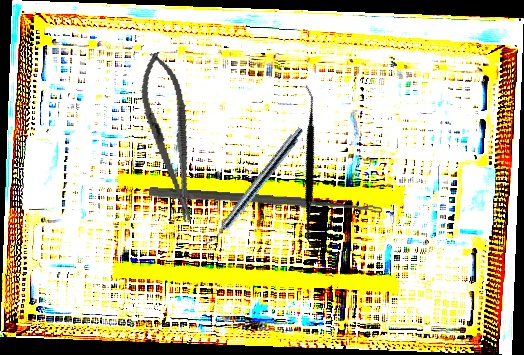Handpiece: (203, 123, 306, 251)
Needle Holder: (132, 48, 208, 227)
Spatula Surgical: (237, 84, 386, 253)
Surgical Spoon: (148, 186, 383, 215)
